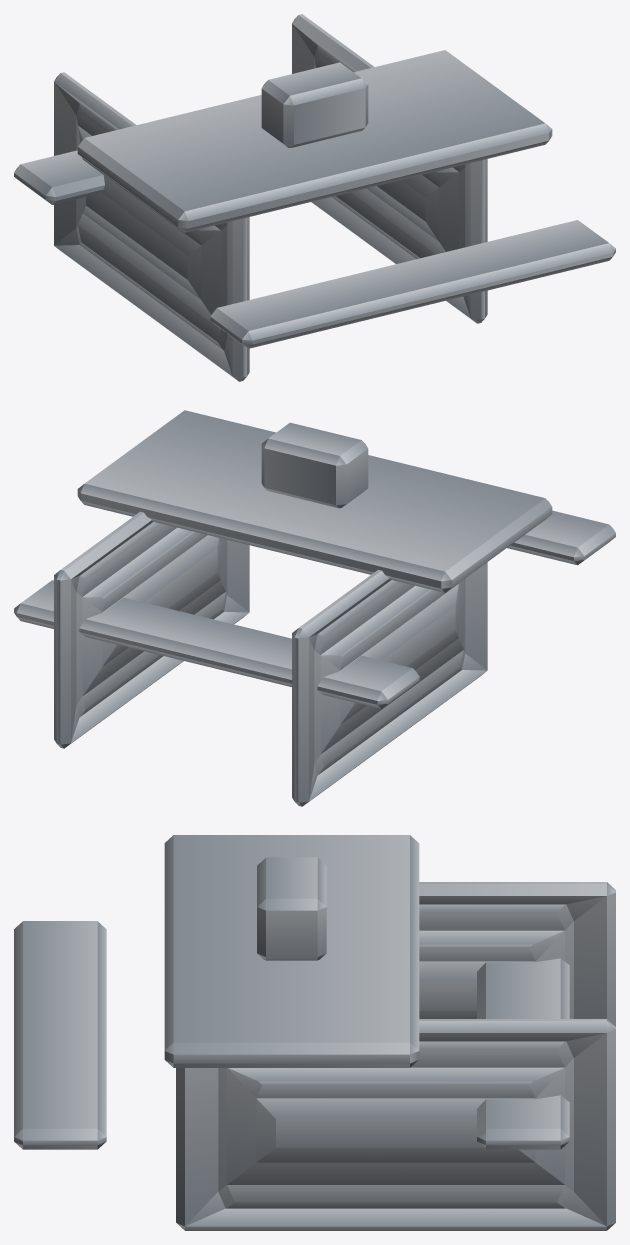
The model's file is dt_picnic_table.fbx.
3 views of the same model, one above another, from view 1: azimuth 30°, elevation 25°; view 2: azimuth 150°, elevation 25°; view 3: azimuth 270°, elevation 25° (orthographic). The views are drawn at different scales.
Visible parts, largest first — view 1: dt_picnic_table; view 2: dt_picnic_table; view 3: dt_picnic_table.
Part boxes in pixels (bbox=[...]): dt_picnic_table: bbox=[14, 14, 615, 381]; dt_picnic_table: bbox=[14, 410, 615, 806]; dt_picnic_table: bbox=[14, 835, 615, 1230].
Bounding box in the file's own units: 508 × 312 × 600.
